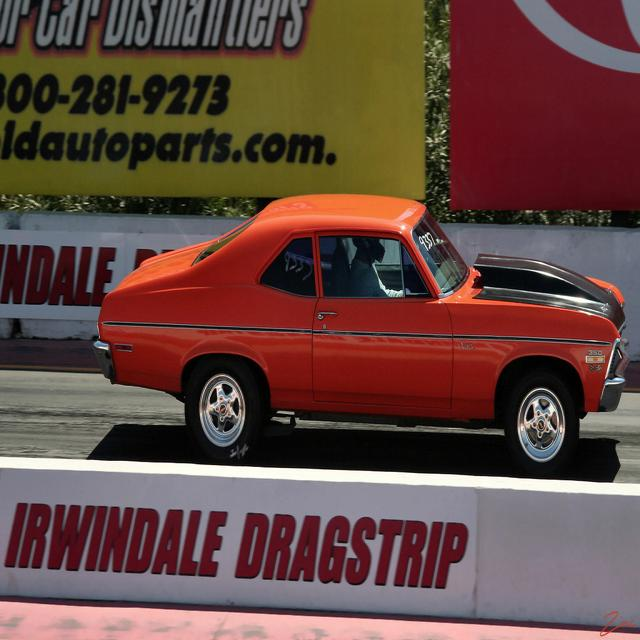car: (92, 190, 630, 467)
